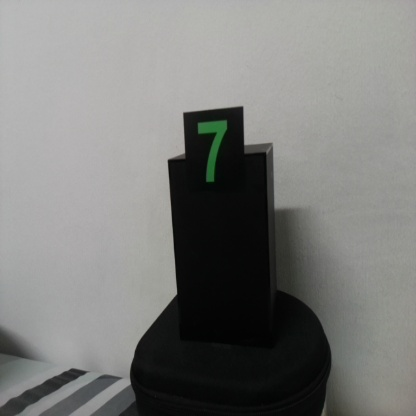id_7: (183, 112, 245, 203)
